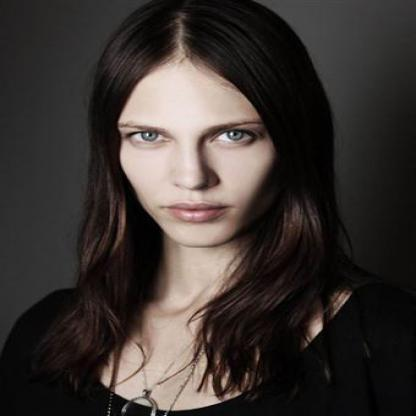long-hair: (53, 249, 364, 308)
